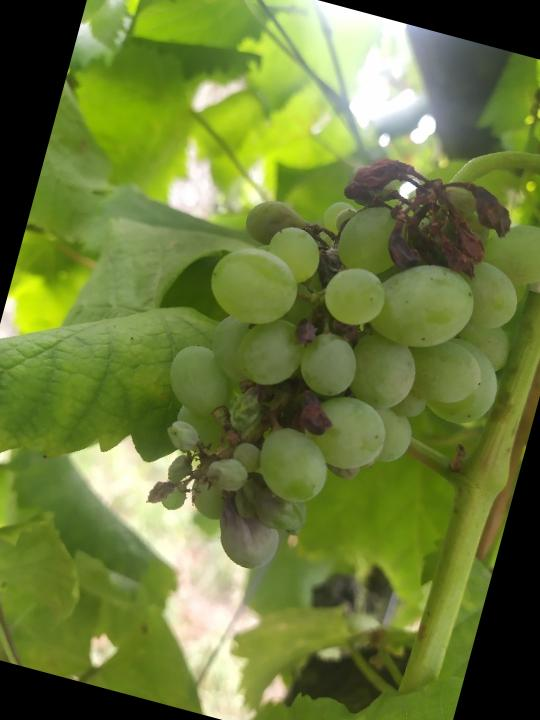grape: (120, 111, 540, 629)
